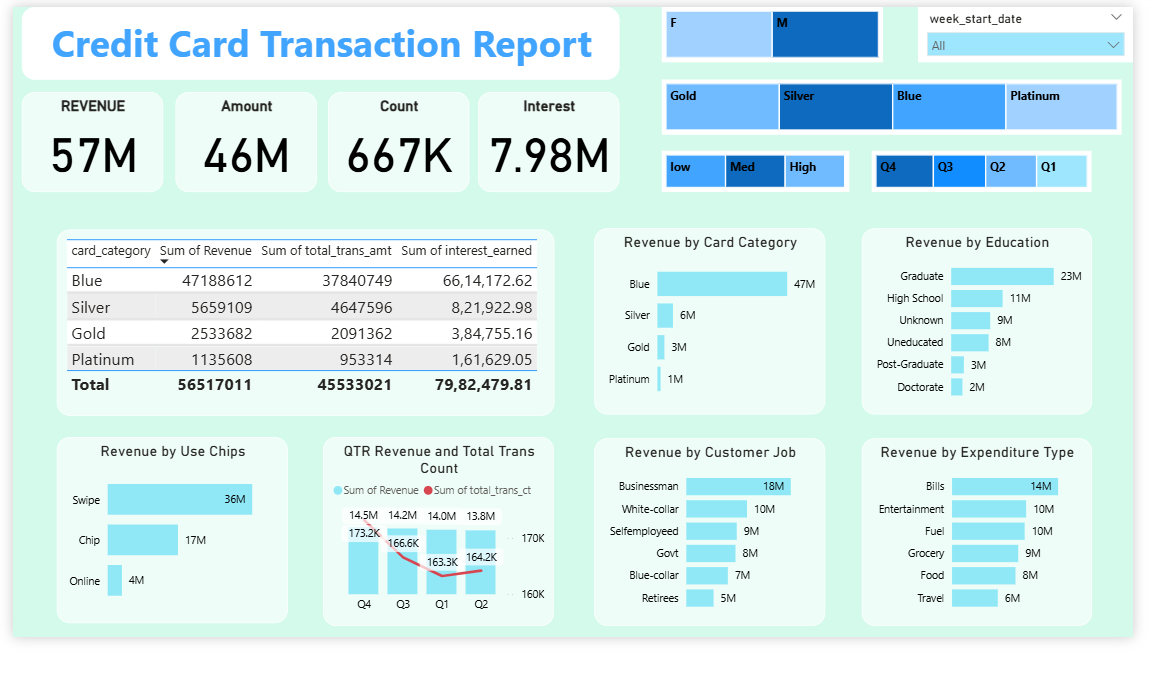

What the dashboard file says about the page in this screenshot:
{"tool":"powerbi","page":{"name":"Transaction","canvas":[1280,720],"ordinal":0},"visuals":[{"type":"textbox","box":[10,0,682.9,82.9],"z":0},{"type":"lineStackedColumnComboChart","title":" QTR  Revenue and Total Trans Count","fields":{"Category":["public cc_detail.qtr"],"Y":["Sum(public cc_detail.Revenue)"],"Y2":["Sum(public cc_detail.total_trans_ct)"]},"box":[353.7,491.4,264.3,215.7],"z":1000},{"type":"barChart","title":"Revenue by Expenditure Type","fields":{"Y":["Sum(public cc_detail.Revenue)"],"Category":["public cc_detail.exp_type"]},"box":[969.4,492.9,262.9,214.3],"z":2000},{"type":"barChart","title":"Revenue by Education","fields":{"Y":["Sum(public cc_detail.Revenue)"],"Category":["public cust_detail.education_level"]},"box":[970,252.9,262.9,212.9],"z":3000},{"type":"barChart","title":"Revenue by Customer Job","fields":{"Y":["Sum(public cc_detail.Revenue)"],"Category":["public cust_detail.customer_job"]},"box":[664.3,492.9,264.3,214.3],"z":4000},{"type":"barChart","title":"Revenue by Card Category","fields":{"Y":["Sum(public cc_detail.Revenue)"],"Category":["public cc_detail.card_category"]},"box":[664.3,252.9,264.3,212.9],"z":5000},{"type":"barChart","title":"Revenue by Use Chips","fields":{"Y":["Sum(public cc_detail.Revenue)"],"Category":["public cc_detail.use_chip"]},"box":[49.4,491.4,264.3,212.9],"z":6000},{"type":"tableEx","fields":{"Values":["public cc_detail.card_category","Sum(public cc_detail.Revenue)","Sum(public cc_detail.total_trans_amt)","Sum(public cc_detail.interest_earned)"]},"box":[50,254.3,568.6,212.9],"z":7000},{"type":"card","title":"REVENUE","fields":{"Values":["Sum(public cc_detail.Revenue)"]},"box":[9.7,97.7,161.7,114.6],"z":8000},{"type":"card","title":"Amount","fields":{"Values":["Sum(public cc_detail.total_trans_amt)"]},"box":[185.8,97.7,161.7,114.6],"z":9000},{"type":"card","title":"Count","fields":{"Values":["Sum(public cc_detail.total_trans_ct)"]},"box":[359.5,97.7,161.7,114.6],"z":10000},{"type":"card","title":"Interest","fields":{"Values":["Sum(public cc_detail.interest_earned)"]},"box":[532,97.7,161.7,114.6],"z":11000},{"type":"slicer","fields":{"Values":["public cc_detail.week_start_date"]},"box":[1034.3,0,245.7,62.9],"z":12000},{"type":"treemap","fields":{"Group":["public cc_detail.qtr"],"Values":["Avg(public cc_detail.client_num)"]},"box":[981.4,164.3,251.4,47.1],"z":13000},{"type":"treemap","fields":{"Values":["Avg(public cc_detail.client_num)"],"Group":["public cust_detail.gender"]},"box":[741.4,0,252.9,62.9],"z":14000},{"type":"treemap","fields":{"Values":["Avg(public cc_detail.client_num)"],"Group":["public cc_detail.card_category"]},"box":[741.4,82.9,525.7,62.9],"z":15000},{"type":"treemap","fields":{"Values":["Avg(public cc_detail.client_num)"],"Group":["public cust_detail.IncomeGroup"]},"box":[741.4,164.3,214.3,47.1],"z":16000}]}

Visuals, with their boxes on the page's 1280x720 design canvas (x1, y1, x2, y2). These are canvas units, not pixel positions in the 1155x682 screenshot, which may show the page scaled, cropped or inside an application window:
textbox: (x1=10, y1=0, x2=693, y2=83)
" QTR  Revenue and Total Trans Count" lineStackedColumnComboChart: (x1=354, y1=491, x2=618, y2=707)
"Revenue by Expenditure Type" barChart: (x1=969, y1=493, x2=1232, y2=707)
"Revenue by Education" barChart: (x1=970, y1=253, x2=1233, y2=466)
"Revenue by Customer Job" barChart: (x1=664, y1=493, x2=929, y2=707)
"Revenue by Card Category" barChart: (x1=664, y1=253, x2=929, y2=466)
"Revenue by Use Chips" barChart: (x1=49, y1=491, x2=314, y2=704)
tableEx - public cc_detail.card_category x Sum(public cc_detail.Revenue): (x1=50, y1=254, x2=619, y2=467)
"REVENUE" card: (x1=10, y1=98, x2=171, y2=212)
"Amount" card: (x1=186, y1=98, x2=348, y2=212)
"Count" card: (x1=360, y1=98, x2=521, y2=212)
"Interest" card: (x1=532, y1=98, x2=694, y2=212)
slicer - public cc_detail.week_start_date: (x1=1034, y1=0, x2=1280, y2=63)
treemap - public cc_detail.qtr x Avg(public cc_detail.client_num): (x1=981, y1=164, x2=1233, y2=211)
treemap - Avg(public cc_detail.client_num) x public cust_detail.gender: (x1=741, y1=0, x2=994, y2=63)
treemap - Avg(public cc_detail.client_num) x public cc_detail.card_category: (x1=741, y1=83, x2=1267, y2=146)
treemap - Avg(public cc_detail.client_num) x public cust_detail.IncomeGroup: (x1=741, y1=164, x2=956, y2=211)
